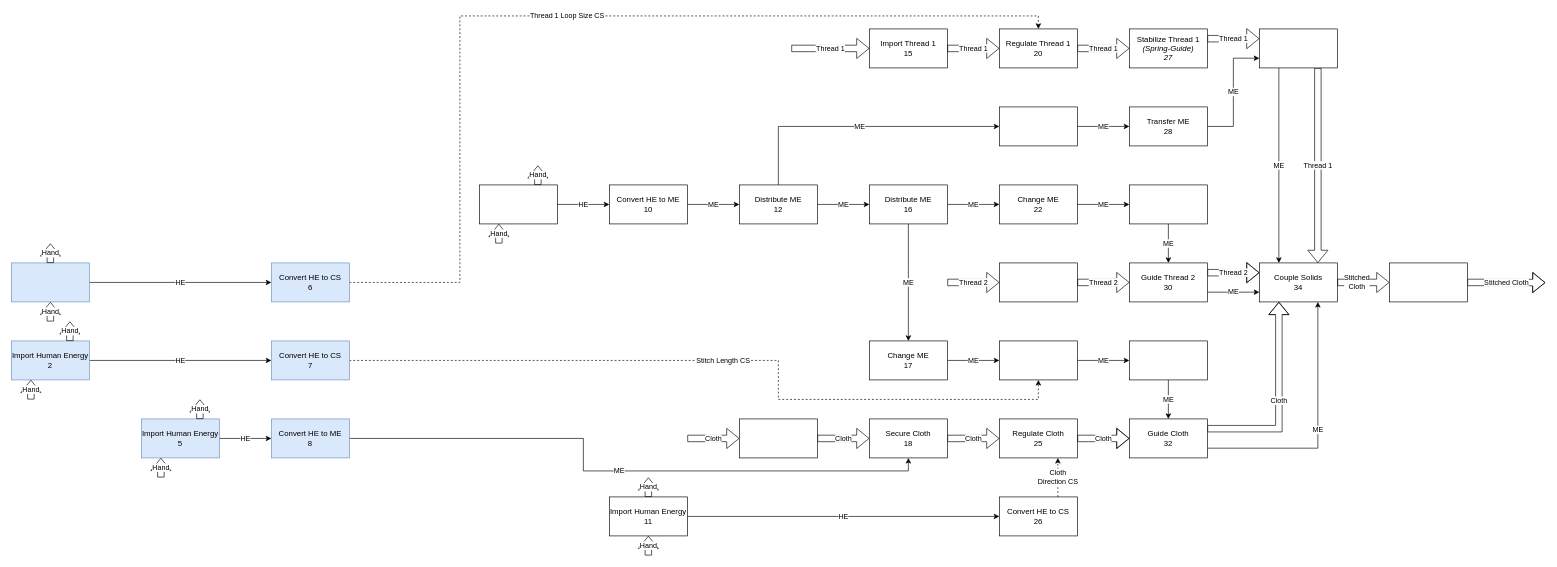
Some shapes in this 1557 by 567 pixel diagram are drawn without their labels. The box of each missing label's shape, as (x1, y1, x2, y2) in pixels:
Change ME 21: (999, 106, 1077, 146)
Export Solid 35: (1389, 262, 1467, 302)
Guide Thread 1 33: (1259, 28, 1337, 68)
Import Cloth 13: (739, 418, 817, 458)
Import Human Energy 1: (11, 262, 89, 302)
Import Human Energy 9: (479, 184, 557, 224)
Import Thread 2 23: (999, 262, 1077, 302)
Regulate ME 24: (999, 340, 1077, 380)
Transfer ME 29: (1129, 184, 1207, 224)
Transfer ME 31: (1129, 340, 1207, 380)
